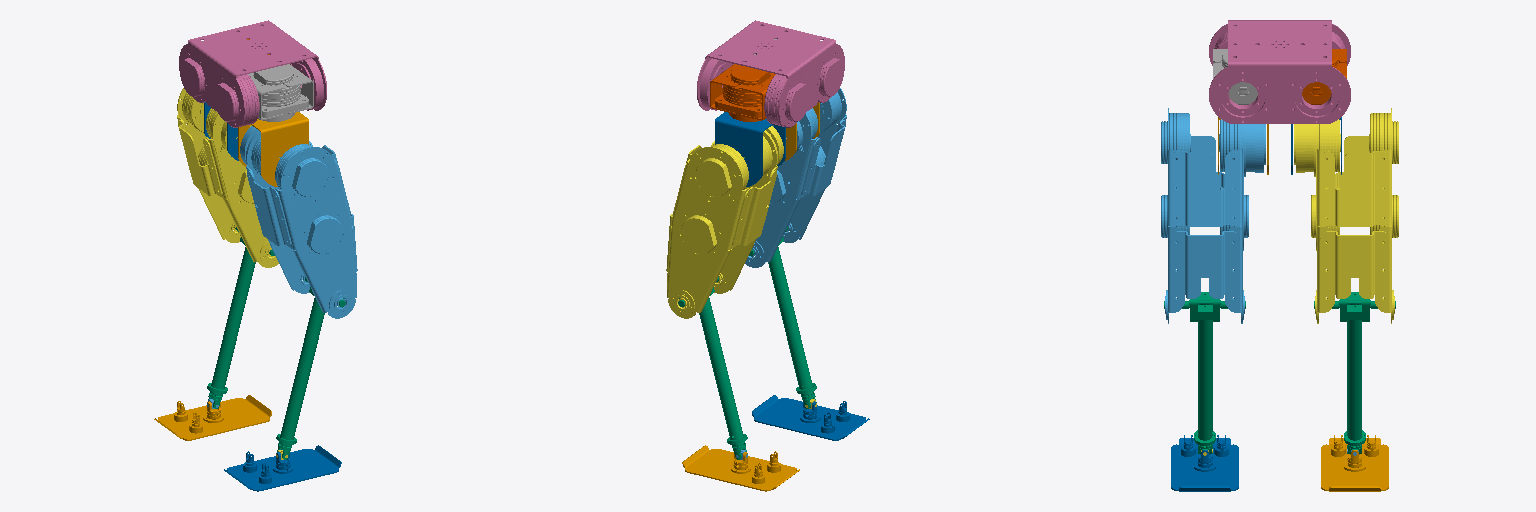
robot.urdf — test_inverted_10:
<?xml version="1.0" ?>
<robot name="test_inverted_10" xmlns:xacro="http://www.ros.org/wiki/xacro">

  <link name="base_link">
    <inertial>
      <origin xyz="-0.019087675935812218 0.09999915136451387 -0.5831036203822739" rpy="0 0 0"/>
      <mass value="0.1444156499617652"/>
      <inertia ixx="8.1e-05" iyy="0.000251" izz="0.000324" ixy="-0.0" iyz="-0.0" ixz="5e-06"/>
    </inertial>
    <visual>
      <origin xyz="0 0 0" rpy="0 0 0"/>
      <geometry>
        <mesh filename="meshes/base_link.stl" scale="0.001 0.001 0.001"/>
      </geometry>
      <material name="silver"/>
    </visual>
    <collision>
      <origin xyz="0 0 0" rpy="0 0 0"/>
      <geometry>
        <mesh filename="meshes/base_link.stl" scale="0.001 0.001 0.001"/>
      </geometry>
    </collision>
  </link>

  <joint name="L_Ankle_Roll" type="continuous">
    <origin xyz="-0.004093 0.099999 -0.561081" rpy="0 0 0"/>
    <parent link="base_link"/>
    <child link="l_ankle_1"/>
    <axis xyz="1.0 0.0 0.0"/>
  </joint>

  <link name="l_ankle_1">
    <inertial>
      <origin xyz="-0.007800352145194699 1.1592786870739946e-07 -3.6316462592722587e-07" rpy="0 0 0"/>
      <mass value="0.0017857987414545656"/>
      <inertia ixx="5e-06" iyy="5e-06" izz="5e-06" ixy="0.0" iyz="0.0" ixz="-0.0"/>
    </inertial>
    <visual>
      <origin xyz="0.004093 -0.099999 0.561081" rpy="0 0 0"/>
      <geometry>
        <mesh filename="meshes/l_ankle_1.stl" scale="0.001 0.001 0.001"/>
      </geometry>
      <material name="silver"/>
    </visual>
    <collision>
      <origin xyz="0.004093 -0.099999 0.561081" rpy="0 0 0"/>
      <geometry>
        <mesh filename="meshes/l_ankle_1.stl" scale="0.001 0.001 0.001"/>
      </geometry>
    </collision>
  </link>

  <joint name="L_Ankle_Pitch" type="continuous">
    <origin xyz="-0.0078 -0.0078 0.0" rpy="0 0 0"/>
    <parent link="l_ankle_1"/>
    <child link="l_shank_1"/>
    <axis xyz="0.0 1.0 0.0"/>
  </joint>

  <link name="l_shank_1">
    <inertial>
      <origin xyz="0.047753570856348404 0.007799532874524839 0.16221228128872112" rpy="0 0 0"/>
      <mass value="0.21284837581671107"/>
      <inertia ixx="0.001435" iyy="0.001566" izz="0.000187" ixy="0.0" iyz="0.0" ixz="-0.000442"/>
    </inertial>
    <visual>
      <origin xyz="0.011893 -0.092199 0.561081" rpy="0 0 0"/>
      <geometry>
        <mesh filename="meshes/l_shank_1.stl" scale="0.001 0.001 0.001"/>
      </geometry>
      <material name="silver"/>
    </visual>
    <collision>
      <origin xyz="0.011893 -0.092199 0.561081" rpy="0 0 0"/>
      <geometry>
        <mesh filename="meshes/l_shank_1.stl" scale="0.001 0.001 0.001"/>
      </geometry>
    </collision>
  </link>

  <joint name="L_Knee_Pitch" type="continuous">
    <origin xyz="0.067965 -0.041199 0.246294" rpy="0 0 0"/>
    <parent link="l_shank_1"/>
    <child link="l_thigh_1"/>
    <axis xyz="0.0 1.0 0.0"/>
  </joint>

  <link name="l_thigh_1">
    <inertial>
      <origin xyz="-0.038479394832983335 0.043327472394746 0.15911804863560236" rpy="0 0 0"/>
      <mass value="2.4192276463978106"/>
      <inertia ixx="0.01249" iyy="0.010396" izz="0.006309" ixy="-0.000154" iyz="0.000601" ixz="0.002029"/>
    </inertial>
    <visual>
      <origin xyz="-0.056072 -0.051 0.314787" rpy="0 0 0"/>
      <geometry>
        <mesh filename="meshes/l_thigh_1.stl" scale="0.001 0.001 0.001"/>
      </geometry>
      <material name="silver"/>
    </visual>
    <collision>
      <origin xyz="-0.056072 -0.051 0.314787" rpy="0 0 0"/>
      <geometry>
        <mesh filename="meshes/l_thigh_1.stl" scale="0.001 0.001 0.001"/>
      </geometry>
    </collision>
  </link>

  <joint name="L_Hip_Pitch" type="continuous">
    <origin xyz="-0.053932 0.03 0.213287" rpy="0 0 0"/>
    <parent link="l_thigh_1"/>
    <child link="l_hip_pitch_1"/>
    <axis xyz="0.0 1.0 0.0"/>
  </joint>

  <link name="l_hip_pitch_1">
    <inertial>
      <origin xyz="-1.7140929809648237e-07 -0.029750787350848865 0.0227499995293427" rpy="0 0 0"/>
      <mass value="0.09382009482644237"/>
      <inertia ixx="0.000168" iyy="0.000137" izz="0.000133" ixy="0.0" iyz="5e-06" ixz="0.0"/>
    </inertial>
    <visual>
      <origin xyz="-0.00214 -0.081 0.1015" rpy="0 0 0"/>
      <geometry>
        <mesh filename="meshes/l_hip_pitch_1.stl" scale="0.001 0.001 0.001"/>
      </geometry>
      <material name="silver"/>
    </visual>
    <collision>
      <origin xyz="-0.00214 -0.081 0.1015" rpy="0 0 0"/>
      <geometry>
        <mesh filename="meshes/l_hip_pitch_1.stl" scale="0.001 0.001 0.001"/>
      </geometry>
    </collision>
  </link>

  <joint name="L_Hip_Yaw" type="continuous">
    <origin xyz="0.0 -0.032 0.055" rpy="0 0 0"/>
    <parent link="l_hip_pitch_1"/>
    <child link="l_hip_yaw_1"/>
    <axis xyz="0.0 0.0 1.0"/>
  </joint>

  <link name="l_hip_yaw_1">
    <inertial>
      <origin xyz="9.220823027462693e-05 -3.4167807472229583e-13 0.039852667704426546" rpy="0 0 0"/>
      <mass value="0.8119924047866205"/>
      <inertia ixx="0.00056" iyy="0.000609" izz="0.000712" ixy="-0.0" iyz="0.0" ixz="-2e-06"/>
    </inertial>
    <visual>
      <origin xyz="-0.00214 -0.049 0.0465" rpy="0 0 0"/>
      <geometry>
        <mesh filename="meshes/l_hip_yaw_1.stl" scale="0.001 0.001 0.001"/>
      </geometry>
      <material name="silver"/>
    </visual>
    <collision>
      <origin xyz="-0.00214 -0.049 0.0465" rpy="0 0 0"/>
      <geometry>
        <mesh filename="meshes/l_hip_yaw_1.stl" scale="0.001 0.001 0.001"/>
      </geometry>
    </collision>
  </link>

  <joint name="L_Hip_Roll" type="continuous">
    <origin xyz="-0.0445 0.0 0.0415" rpy="0 0 0"/>
    <parent link="l_hip_yaw_1"/>
    <child link="bipedal_floating_1"/>
    <axis xyz="1.0 0.0 0.0"/>
  </joint>

  <link name="bipedal_floating_1">
    <inertial>
      <origin xyz="0.013224241969873977 -0.04900000000341284 0.004430089785499109" rpy="0 0 0"/>
      <mass value="1.1534250755587985"/>
      <inertia ixx="0.00373" iyy="0.003678" izz="0.006137" ixy="-0.0" iyz="-0.0" ixz="-0.000116"/>
    </inertial>
    <visual>
      <origin xyz="0.04236 -0.049 0.005" rpy="0 0 0"/>
      <geometry>
        <mesh filename="meshes/bipedal_floating_1.stl" scale="0.001 0.001 0.001"/>
      </geometry>
      <material name="silver"/>
    </visual>
    <collision>
      <origin xyz="0.04236 -0.049 0.005" rpy="0 0 0"/>
      <geometry>
        <mesh filename="meshes/bipedal_floating_1.stl" scale="0.001 0.001 0.001"/>
      </geometry>
    </collision>
  </link>

  <joint name="R_Hip_Roll" type="continuous">
    <origin xyz="0.0 -0.098 0.0" rpy="0 0 0"/>
    <parent link="bipedal_floating_1"/>
    <child link="r_hip_yaw_1"/>
    <axis xyz="1.0 0.0 0.0"/>
  </joint>

  <link name="r_hip_yaw_1">
    <inertial>
      <origin xyz="0.044592208230001894 3.355093980417223e-13 -0.0016473322955735462" rpy="0 0 0"/>
      <mass value="0.8119924047866209"/>
      <inertia ixx="0.00056" iyy="0.000609" izz="0.000712" ixy="0.0" iyz="-0.0" ixz="-2e-06"/>
    </inertial>
    <visual>
      <origin xyz="0.04236 0.049 0.005" rpy="0 0 0"/>
      <geometry>
        <mesh filename="meshes/r_hip_yaw_1.stl" scale="0.001 0.001 0.001"/>
      </geometry>
      <material name="silver"/>
    </visual>
    <collision>
      <origin xyz="0.04236 0.049 0.005" rpy="0 0 0"/>
      <geometry>
        <mesh filename="meshes/r_hip_yaw_1.stl" scale="0.001 0.001 0.001"/>
      </geometry>
    </collision>
  </link>

  <joint name="R_Hip_Yaw" type="continuous">
    <origin xyz="0.0445 0.0 -0.0415" rpy="0 0 0"/>
    <parent link="r_hip_yaw_1"/>
    <child link="r_hip_pitch_1"/>
    <axis xyz="0.0 0.0 1.0"/>
  </joint>  

  <link name="r_hip_pitch_1">
    <inertial>
      <origin xyz="-1.714095707243228e-07 -0.0022492126491534675 -0.03225000047076376" rpy="0 0 0"/>
      <mass value="0.09382009482644298"/>
      <inertia ixx="0.000168" iyy="0.000137" izz="0.000133" ixy="-0.0" iyz="-5e-06" ixz="-0.0"/>
    </inertial>
    <visual>
      <origin xyz="-0.00214 0.049 0.0465" rpy="0 0 0"/>
      <geometry>
        <mesh filename="meshes/r_hip_pitch_1.stl" scale="0.001 0.001 0.001"/>
      </geometry>
      <material name="silver"/>
    </visual>
    <collision>
      <origin xyz="-0.00214 0.049 0.0465" rpy="0 0 0"/>
      <geometry>
        <mesh filename="meshes/r_hip_pitch_1.stl" scale="0.001 0.001 0.001"/>
      </geometry>
    </collision>
  </link>

  <joint name="R_Hip_Pitch" type="continuous">
    <origin xyz="0.0 -0.032 -0.055" rpy="0 0 0"/>
    <parent link="r_hip_pitch_1"/>
    <child link="r_thigh_1"/>
    <axis xyz="0.0 1.0 0.0"/>
  </joint>

  <link name="r_thigh_1">
    <inertial>
      <origin xyz="0.015452605166383002 -0.013327472395499751 -0.054168951355970524" rpy="0 0 0"/>
      <mass value="2.4192276462424758"/>
      <inertia ixx="0.01249" iyy="0.010396" izz="0.006309" ixy="0.000154" iyz="-0.000601" ixz="0.002029"/>
    </inertial>
    <visual>
      <origin xyz="-0.00214 0.081 0.1015" rpy="0 0 0"/>
      <geometry>
        <mesh filename="meshes/r_thigh_1.stl" scale="0.001 0.001 0.001"/>
      </geometry>
      <material name="silver"/>
    </visual>
    <collision>
      <origin xyz="-0.00214 0.081 0.1015" rpy="0 0 0"/>
      <geometry>
        <mesh filename="meshes/r_thigh_1.stl" scale="0.001 0.001 0.001"/>
      </geometry>
    </collision>
  </link>

  <joint name="R_Knee_Pitch" type="continuous">
    <origin xyz="0.053932 -0.019 -0.213287" rpy="0 0 0"/>
    <parent link="r_thigh_1"/>
    <child link="r_shank_1"/>
    <axis xyz="0.0 1.0 0.0"/>
  </joint>

  <link name="r_shank_1">
    <inertial>
      <origin xyz="-0.020211429144670966 -1.4671252080156183e-06 -0.08408171871396775" rpy="0 0 0"/>
      <mass value="0.21284837581671115"/>
      <inertia ixx="0.001435" iyy="0.001566" izz="0.000187" ixy="0.0" iyz="0.0" ixz="-0.000442"/>
    </inertial>
    <visual>
      <origin xyz="-0.056072 0.1 0.314787" rpy="0 0 0"/>
      <geometry>
        <mesh filename="meshes/r_shank_1.stl" scale="0.001 0.001 0.001"/>
      </geometry>
      <material name="silver"/>
    </visual>
    <collision>
      <origin xyz="-0.056072 0.1 0.314787" rpy="0 0 0"/>
      <geometry>
        <mesh filename="meshes/r_shank_1.stl" scale="0.001 0.001 0.001"/>
      </geometry>
    </collision>
  </link>

  <joint name="R_Ankle_Pitch" type="fixed">
    <origin xyz="-0.067965 0.0 -0.246294" rpy="0 0 0"/>
    <parent link="r_shank_1"/>
    <child link="r_ankle_1"/>
  </joint>

  <link name="r_ankle_1">
    <inertial>
      <origin xyz="-3.5214549278309026e-07 5.132005931329786e-14 -3.6316462526109206e-07" rpy="0 0 0"/>
      <mass value="0.0017857987414545333"/>
      <inertia ixx="5e-06" iyy="5e-06" izz="5e-06" ixy="0.0" iyz="0.0" ixz="-0.0"/>
    </inertial>
    <visual>
      <origin xyz="0.011893 0.1 0.561081" rpy="0 0 0"/>
      <geometry>
        <mesh filename="meshes/r_ankle_1.stl" scale="0.001 0.001 0.001"/>
      </geometry>
      <material name="silver"/>
    </visual>
    <collision>
      <origin xyz="0.011893 0.1 0.561081" rpy="0 0 0"/>
      <geometry>
        <mesh filename="meshes/r_ankle_1.stl" scale="0.001 0.001 0.001"/>
      </geometry>
    </collision>
  </link>

  <joint name="R_Ankle_Roll" type="fixed">
    <origin xyz="0.0 0.0 0.0" rpy="0 0 0"/>
    <parent link="r_ankle_1"/>
    <child link="r_foot_1"/>
  </joint>

  <link name="r_foot_1">
    <inertial>
      <origin xyz="-0.007193791864195859 3.543669566119512e-08 -0.022022620382273317" rpy="0 0 0"/>
      <mass value="0.14441564996176498"/>
      <inertia ixx="8.1e-05" iyy="0.000251" izz="0.000324" ixy="-0.0" iyz="-0.0" ixz="5e-06"/>
    </inertial>
    <visual>
      <origin xyz="0.011893 0.1 0.561081" rpy="0 0 0"/>
      <geometry>
        <mesh filename="meshes/r_foot_1.stl" scale="0.001 0.001 0.001"/>
      </geometry>
      <material name="silver"/>
    </visual>
    <collision>
      <origin xyz="0.011893 0.1 0.561081" rpy="0 0 0"/>
      <geometry>
        <mesh filename="meshes/r_foot_1.stl" scale="0.001 0.001 0.001"/>
      </geometry>
    </collision>
  </link>

</robot>

--- What the picture shows (computed from the rendered views, not written in the file) ---
Views: 3 orthographic renders of the robot side by side, from view 1: azimuth 30°, elevation 25°; view 2: azimuth 150°, elevation 25°; view 3: azimuth 270°, elevation 25°.
Robot: test_inverted_10 — 13 links, 12 joints (10 continuous, 2 fixed); root link base_link; default pose: every joint at zero.
Visible links, largest first — view 1: r_thigh_1, bipedal_floating_1, l_thigh_1, r_foot_1, base_link, r_hip_yaw_1, r_hip_pitch_1, r_shank_1, l_shank_1; view 2: l_thigh_1, bipedal_floating_1, r_thigh_1, base_link, r_foot_1, l_hip_yaw_1, l_hip_pitch_1, l_shank_1, r_shank_1; view 3: l_thigh_1, r_thigh_1, bipedal_floating_1, base_link, r_foot_1, l_shank_1, r_shank_1, l_hip_yaw_1, r_hip_yaw_1.
Boxes of the visible links, x1,y1,x2,y2 form: r_thigh_1: [240, 126, 357, 318]; bipedal_floating_1: [179, 20, 326, 127]; l_thigh_1: [177, 88, 278, 267]; r_foot_1: [224, 445, 341, 491]; base_link: [154, 395, 271, 440]; r_hip_yaw_1: [248, 64, 313, 121]; r_hip_pitch_1: [238, 112, 308, 186]; r_shank_1: [276, 277, 345, 459]; l_shank_1: [207, 227, 274, 408]; l_thigh_1: [666, 126, 783, 318]; bipedal_floating_1: [697, 20, 844, 127]; r_thigh_1: [745, 88, 846, 267]; base_link: [682, 445, 799, 491]; r_foot_1: [752, 395, 869, 440]; l_hip_yaw_1: [710, 64, 775, 121]; l_hip_pitch_1: [715, 112, 785, 186]; l_shank_1: [678, 277, 747, 459]; r_shank_1: [749, 227, 816, 408]; l_thigh_1: [1294, 108, 1398, 323]; r_thigh_1: [1161, 108, 1265, 323]; bipedal_floating_1: [1209, 20, 1350, 123]; base_link: [1321, 435, 1388, 491]; r_foot_1: [1171, 435, 1238, 491]; l_shank_1: [1314, 292, 1395, 453]; r_shank_1: [1164, 292, 1245, 453]; l_hip_yaw_1: [1302, 49, 1346, 104]; r_hip_yaw_1: [1213, 49, 1257, 104].
Bounding box of the posed robot: 0.1927 × 0.317 × 0.6321 m (x, y, z).
Meshes: 13 distinct files referenced, 13 mesh visuals loaded (13 binary STL).
